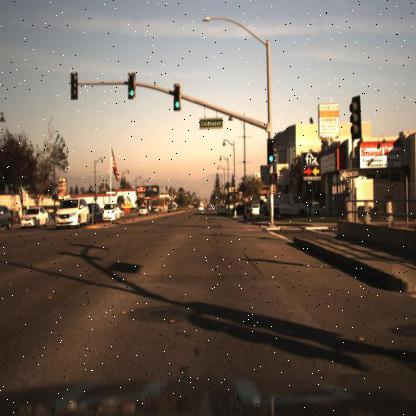car: (54, 196, 90, 226), (265, 191, 305, 218), (20, 204, 49, 230), (306, 202, 329, 218), (0, 206, 14, 232), (103, 201, 121, 218), (138, 203, 152, 219), (249, 203, 261, 219)
trafficLight-Green: (265, 138, 277, 166), (172, 85, 182, 110), (127, 75, 136, 97)
